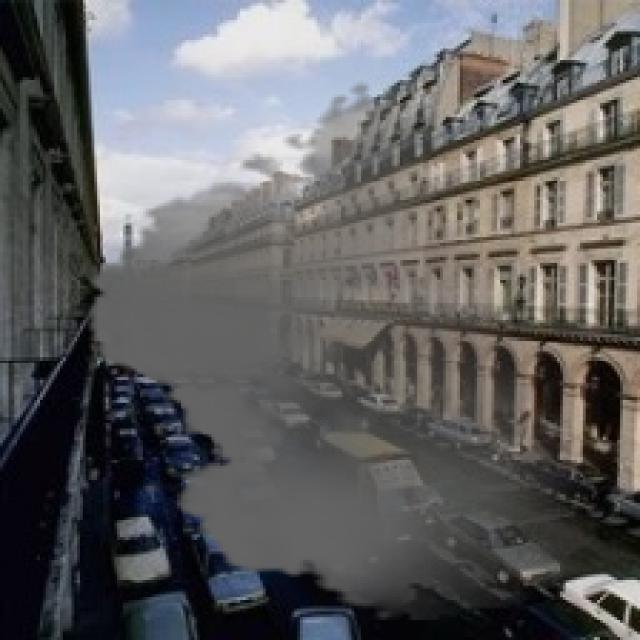Smoke: (68, 80, 623, 620)
